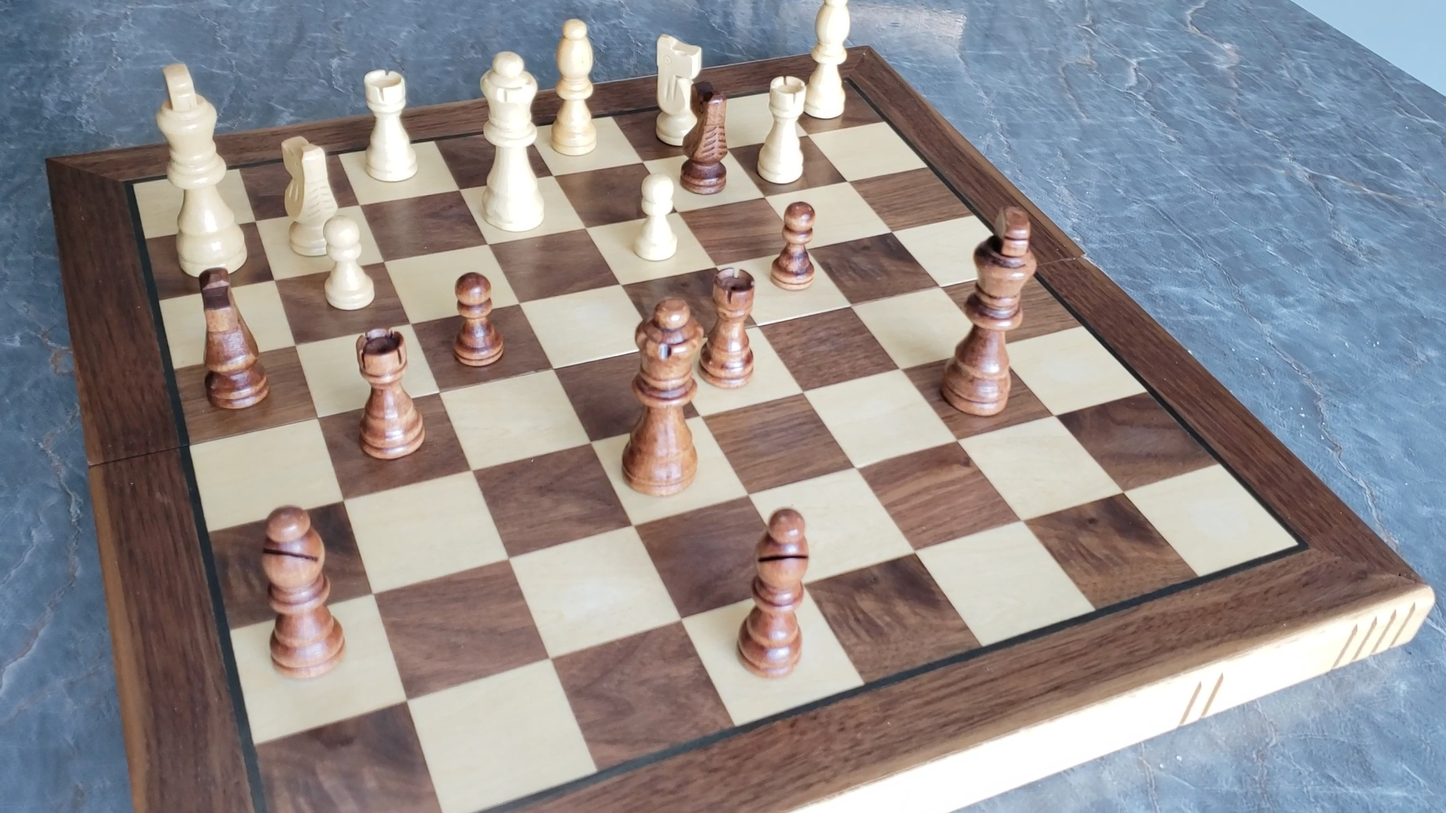black-bishop: (727, 506, 837, 692), (261, 493, 346, 683)
black-king: (937, 202, 1036, 417)
black-knight: (171, 259, 280, 414), (681, 82, 731, 195)
black-pawn: (450, 268, 505, 369), (770, 198, 819, 293)
black-queen: (619, 292, 708, 499)
black-rook: (353, 324, 426, 461), (703, 264, 759, 390)
white-bishop: (548, 13, 599, 159), (802, 0, 855, 123)
white-king: (152, 55, 248, 279)
white-knight: (276, 132, 343, 259), (650, 29, 705, 148)
white-pawn: (314, 211, 381, 316), (626, 167, 687, 267)
white-queen: (477, 47, 549, 236)
white-rook: (358, 64, 420, 185), (754, 72, 812, 189)
